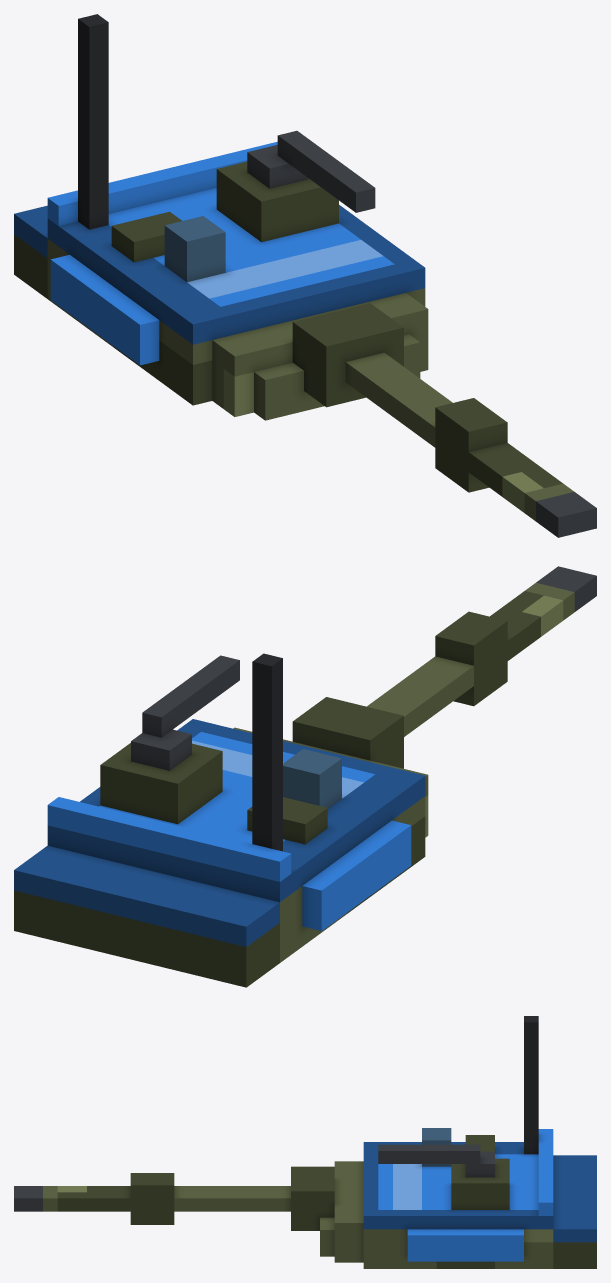
File: cm_tank_g_1.glb
3 views of the same model, one above another, from view 1: azimuth 30°, elevation 25°; view 2: azimuth 150°, elevation 25°; view 3: azimuth 270°, elevation 25° (orthographic). The views are drawn at different scales.
Visible parts, largest first — view 1: cm_tank_g_1_body; view 2: cm_tank_g_1_body; view 3: cm_tank_g_1_body.
Boxes of the visible parts, x1,y1,x2,y2 form: cm_tank_g_1_body: (14,14,596,537); cm_tank_g_1_body: (14,566,596,987); cm_tank_g_1_body: (14,1016,596,1268).
Bounding box in the file's own units: 0.875 × 0.875 × 2.5.
1 material, 1 textured.
